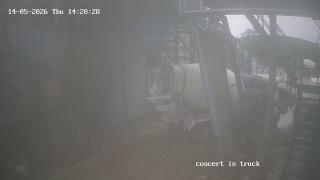cement_mixer_truck: (146, 57, 290, 140)
